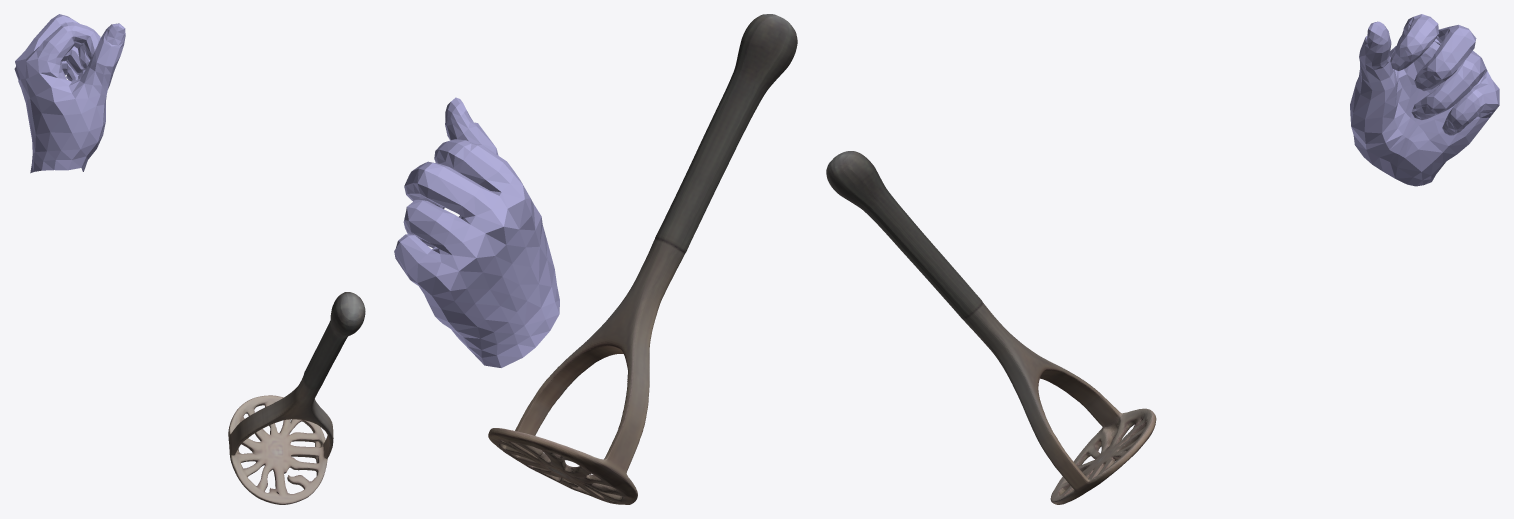
The model's file is frame_0003_source_000003_hand_object.glb.
3 views of the same model, side by side, from view 1: azimuth 30°, elevation 25°; view 2: azimuth 150°, elevation 25°; view 3: azimuth 270°, elevation 25° (orthographic). The views are drawn at different scales.
Visible parts, largest first — view 1: world; view 2: world; view 3: world.
Part boxes in pixels (left/top/right/bottom): world: left=14, top=14, right=365, bottom=504; world: left=394, top=14, right=797, bottom=504; world: left=826, top=14, right=1499, bottom=504.
Bounding box in the file's own units: 0.1332 × 0.3045 × 0.4087.
